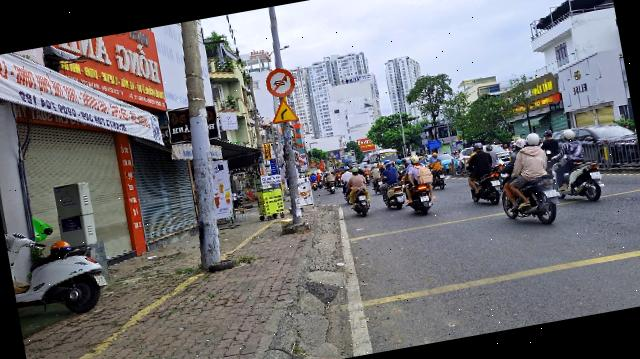cam-bop-coi: (263, 64, 297, 98)
cho-ngoat-nguy-hiem-ben-trai: (268, 95, 300, 124)
